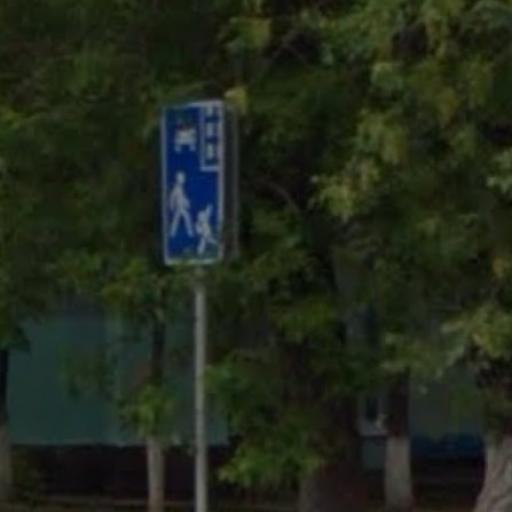traffic_sign: (159, 99, 229, 269)
